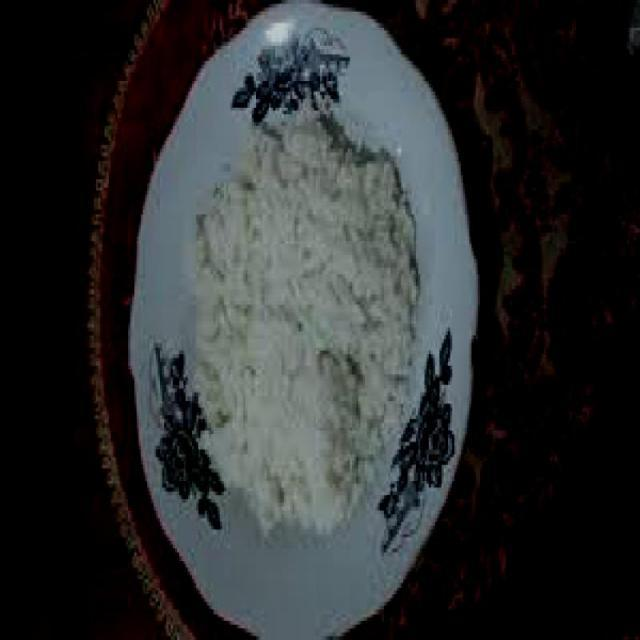rice: (194, 111, 417, 542)
